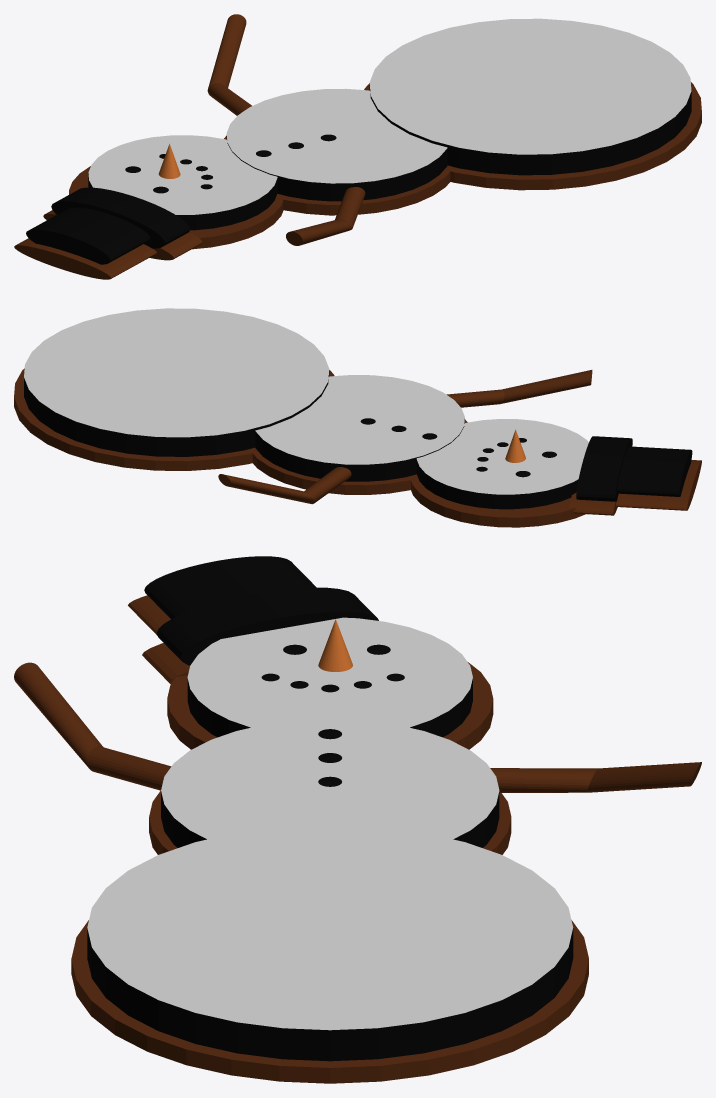
Rendered from Snowman.fbx.
3 renders of one model, top to bottom at view 1: azimuth 30°, elevation 25°; view 2: azimuth 150°, elevation 25°; view 3: azimuth 270°, elevation 25°, orthographic. The views are drawn at different scales.
Parts seen in each view (by area): view 1: Cylinder; view 2: Cylinder; view 3: Cylinder.
Boxes of the visible parts, x1=… form: Cylinder: x1=14, y1=14, x2=701, y2=279; Cylinder: x1=14, y1=308, x2=701, y2=527; Cylinder: x1=14, y1=556, x2=701, y2=1083.
Bounding box in the file's own units: 484 × 43 × 283.
